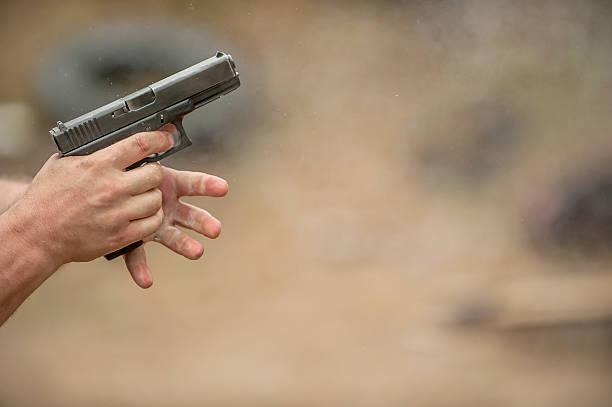weapon: (47, 49, 244, 174)
